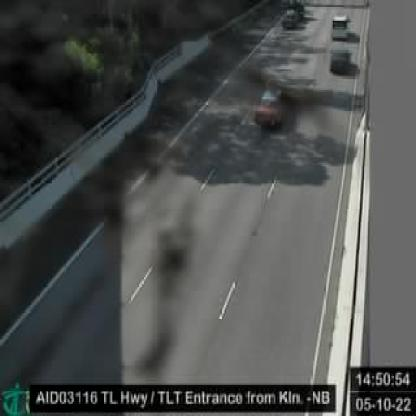Car: (254, 88, 284, 125), (330, 47, 351, 71), (330, 15, 347, 40)
